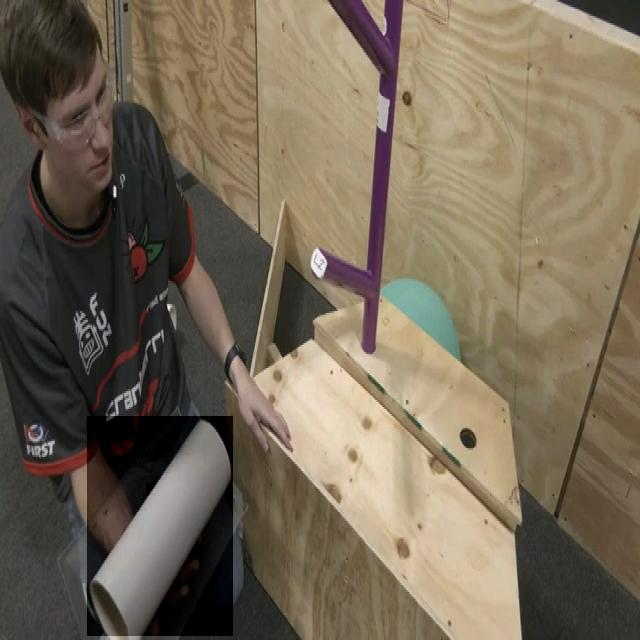Coral: (87, 416, 233, 636)
